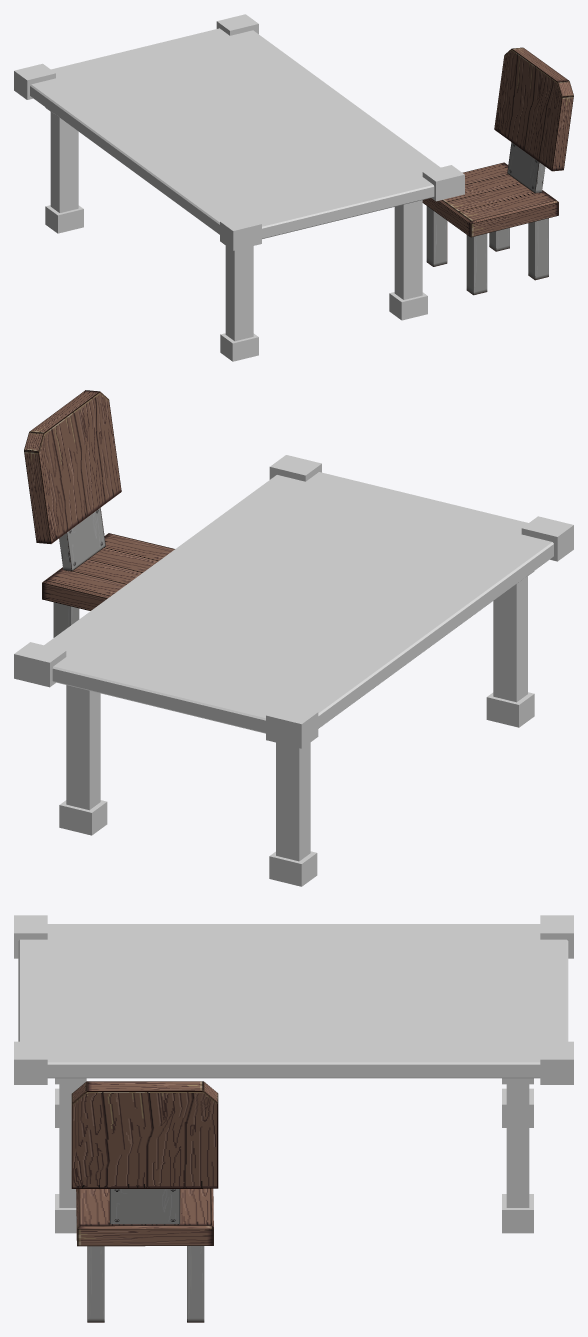
Rendered from GearbarShell2.fbx.
3 renders of one model, top to bottom at view 1: azimuth 30°, elevation 25°; view 2: azimuth 150°, elevation 25°; view 3: azimuth 270°, elevation 25°, orthographic. The views are drawn at different scales.
Visible parts, largest first — view 1: pCube8, pCube589, pCube536, polySurface91, polySurface90, polySurface88, pCube590, pCube481, pCube590.001, pCube461, pCube590.003, pCube12 (+2 smaller); view 2: pCube8, pCube589, polySurface89, polySurface88, polySurface90, pCube536, pCube525, pCube461, pCube494, pCube481, pCube12, pCube590.002; view 3: pCube8, pCube589, pCube536, polySurface89, pCube461, polySurface91, pCube12, pCube494, pCube590.001, pCube590.002, pCube525, pCube481.
Part boxes in pixels (left/top/right/bottom): pCube8: left=30, top=28, right=440, bottom=238; pCube589: left=494, top=47, right=573, bottom=171; pCube536: left=422, top=162, right=558, bottom=237; polySurface91: left=389, top=200, right=427, bottom=320; polySurface90: left=220, top=246, right=258, bottom=361; polySurface88: left=45, top=107, right=83, bottom=233; pCube590: left=466, top=233, right=487, bottom=295; pCube481: left=220, top=214, right=261, bottom=250; pCube590.001: left=528, top=218, right=548, bottom=280; pCube461: left=507, top=142, right=545, bottom=193; pCube590.003: left=426, top=206, right=447, bottom=266; pCube12: left=422, top=165, right=464, bottom=201; pCube8: left=44, top=472, right=553, bottom=733; pCube589: left=24, top=390, right=121, bottom=543; polySurface89: left=59, top=685, right=107, bottom=835; polySurface88: left=269, top=742, right=317, bottom=886; polySurface90: left=486, top=571, right=534, bottom=727; pCube536: left=42, top=533, right=174, bottom=610; pCube525: left=266, top=703, right=318, bottom=748; pCube461: left=59, top=508, right=105, bottom=571; pCube494: left=14, top=642, right=66, bottom=687; pCube481: left=521, top=516, right=573, bottom=561; pCube12: left=269, top=455, right=321, bottom=481; pCube590.002: left=53, top=602, right=79, bottom=637; pCube8: left=18, top=924, right=568, bottom=1078; pCube589: left=71, top=1081, right=218, bottom=1188; pCube536: left=76, top=1188, right=213, bottom=1246; polySurface89: left=502, top=1078, right=533, bottom=1233; pCube461: left=109, top=1189, right=180, bottom=1224; polySurface91: left=55, top=1078, right=86, bottom=1233; pCube12: left=14, top=1041, right=47, bottom=1084; pCube494: left=540, top=1041, right=573, bottom=1084; pCube590.001: left=87, top=1246, right=104, bottom=1322; pCube590.002: left=187, top=1246, right=204, bottom=1322; pCube525: left=540, top=915, right=573, bottom=958; pCube481: left=14, top=915, right=47, bottom=958.
Size of the model in its own units: 33.53 by 16.96 by 34.89.
